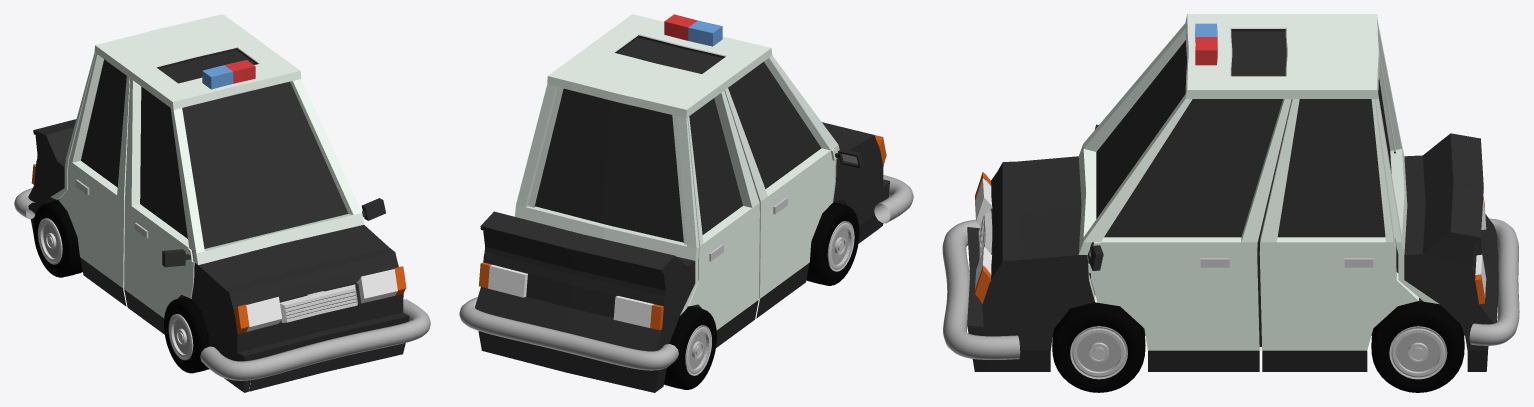
The model's file is CR-CAR-2B.fbx.
3 renders of one model, left to right at view 1: azimuth 30°, elevation 25°; view 2: azimuth 150°, elevation 25°; view 3: azimuth 270°, elevation 25°, orthographic. The views are drawn at different scales.
Parts seen in each view (by area): view 1: BODY, NurbsPath, WHEEL.004, WHEEL.001, NurbsPath.001; view 2: BODY, NurbsPath.001, WHEEL.001, WHEEL.004, NurbsPath; view 3: BODY, WHEEL.002, WHEEL.003, NurbsPath, NurbsPath.001.
Part boxes in pixels (x1,y1,x2,y2): BODY: [28, 14, 409, 392]; NurbsPath: [200, 299, 430, 380]; WHEEL.004: [33, 200, 82, 277]; WHEEL.001: [164, 296, 209, 373]; NurbsPath.001: [14, 188, 35, 218]; BODY: [475, 14, 889, 392]; NurbsPath.001: [459, 297, 678, 370]; WHEEL.001: [806, 202, 859, 285]; WHEEL.004: [664, 306, 716, 389]; NurbsPath: [874, 175, 913, 223]; BODY: [967, 14, 1498, 371]; WHEEL.002: [1371, 301, 1464, 392]; WHEEL.003: [1052, 302, 1145, 392]; NurbsPath: [942, 219, 1020, 359]; NurbsPath.001: [1469, 218, 1519, 345].
Size of the model in its own units: 131 by 140 by 242.
